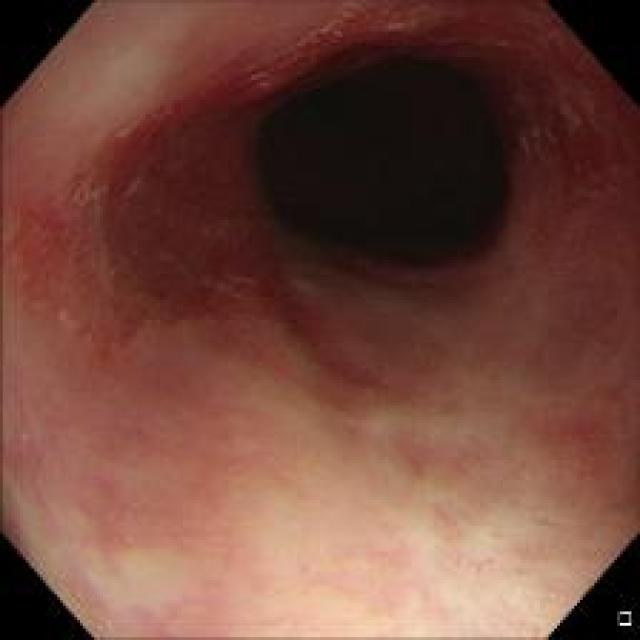contrast: (244, 34, 515, 279)
